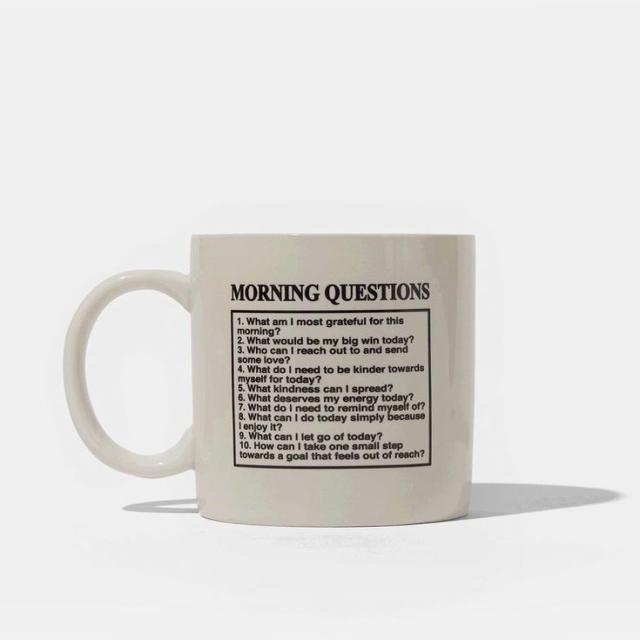glass cup: (63, 232, 477, 528)
